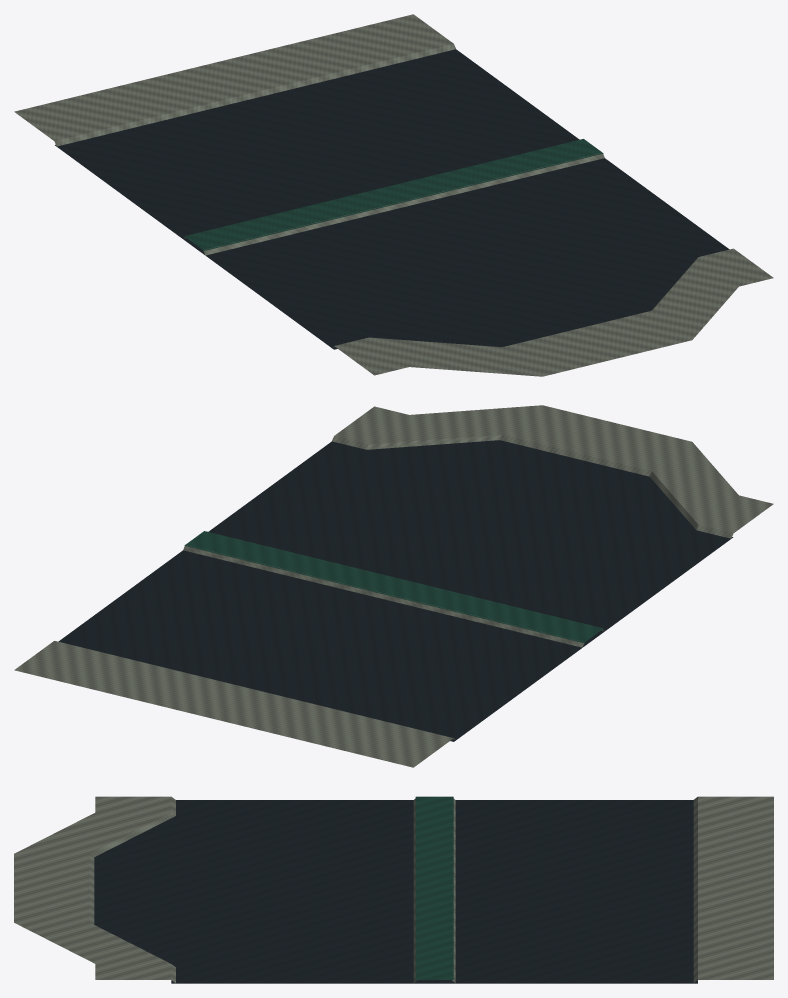
Rendered from road_arterial_6lane_16m_transit_bay_ShadowProxy.glb.
The picture shows the model from 3 angles, top to bottom: view 1: azimuth 30°, elevation 25°; view 2: azimuth 150°, elevation 25°; view 3: azimuth 270°, elevation 25°; orthographic projection. The views are drawn at different scales.
Visible parts, largest first — view 1: road_arterial_6lane_16m_transit_bay__surface.003; view 2: road_arterial_6lane_16m_transit_bay__surface.003; view 3: road_arterial_6lane_16m_transit_bay__surface.003.
Part boxes in pixels (bbox=[...]): road_arterial_6lane_16m_transit_bay__surface.003: bbox=[14, 14, 773, 376]; road_arterial_6lane_16m_transit_bay__surface.003: bbox=[14, 405, 773, 767]; road_arterial_6lane_16m_transit_bay__surface.003: bbox=[14, 796, 773, 983].
Size of the model in its own units: 16 by 0.15 by 28.
4 materials, 4 textured.
